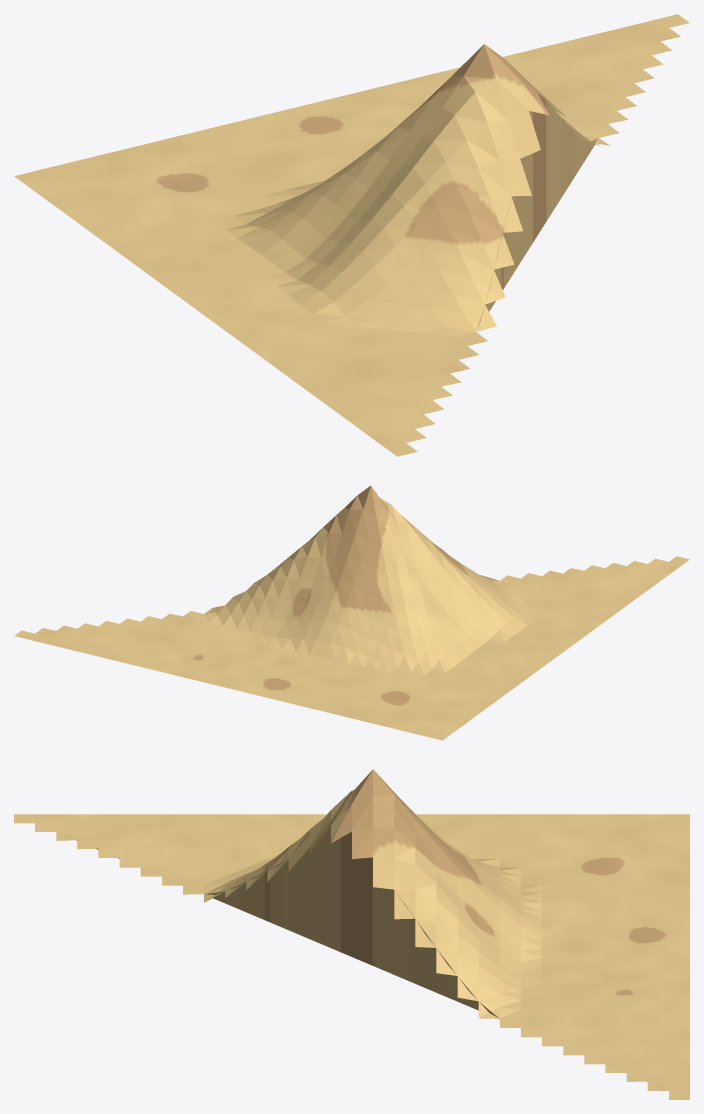
File: Desert_Mountains_01_SW.obj
3 views of the same model, one above another, from view 1: azimuth 30°, elevation 25°; view 2: azimuth 150°, elevation 25°; view 3: azimuth 270°, elevation 25° (orthographic). The views are drawn at different scales.
Bounding box in the file's own units: 10 × 2.78 × 10.
Materials: 1 (1 with a texture image).
